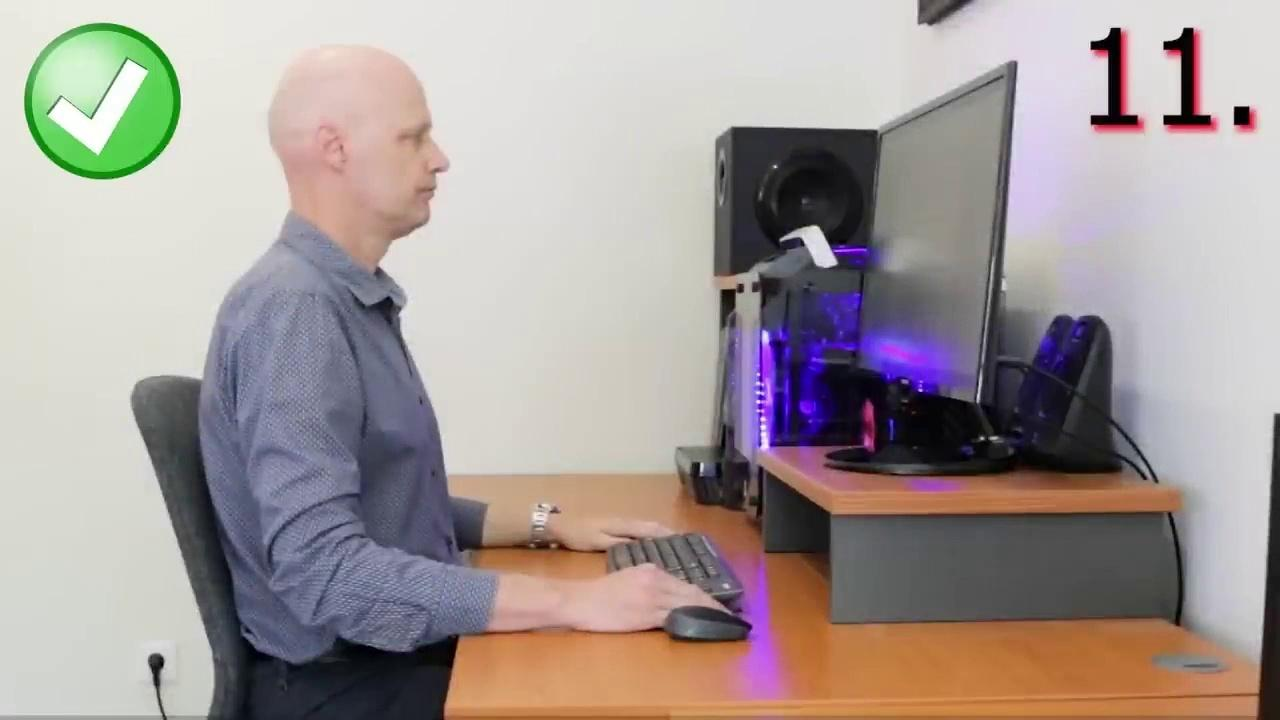GoodPosture: (199, 45, 719, 719)
